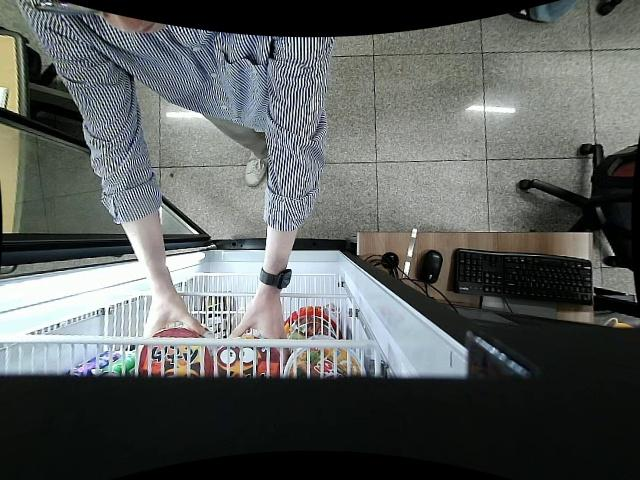00_hand: (228, 299, 288, 365), (142, 292, 209, 336)
05_nuguri_L: (136, 328, 214, 379), (213, 334, 278, 380)
